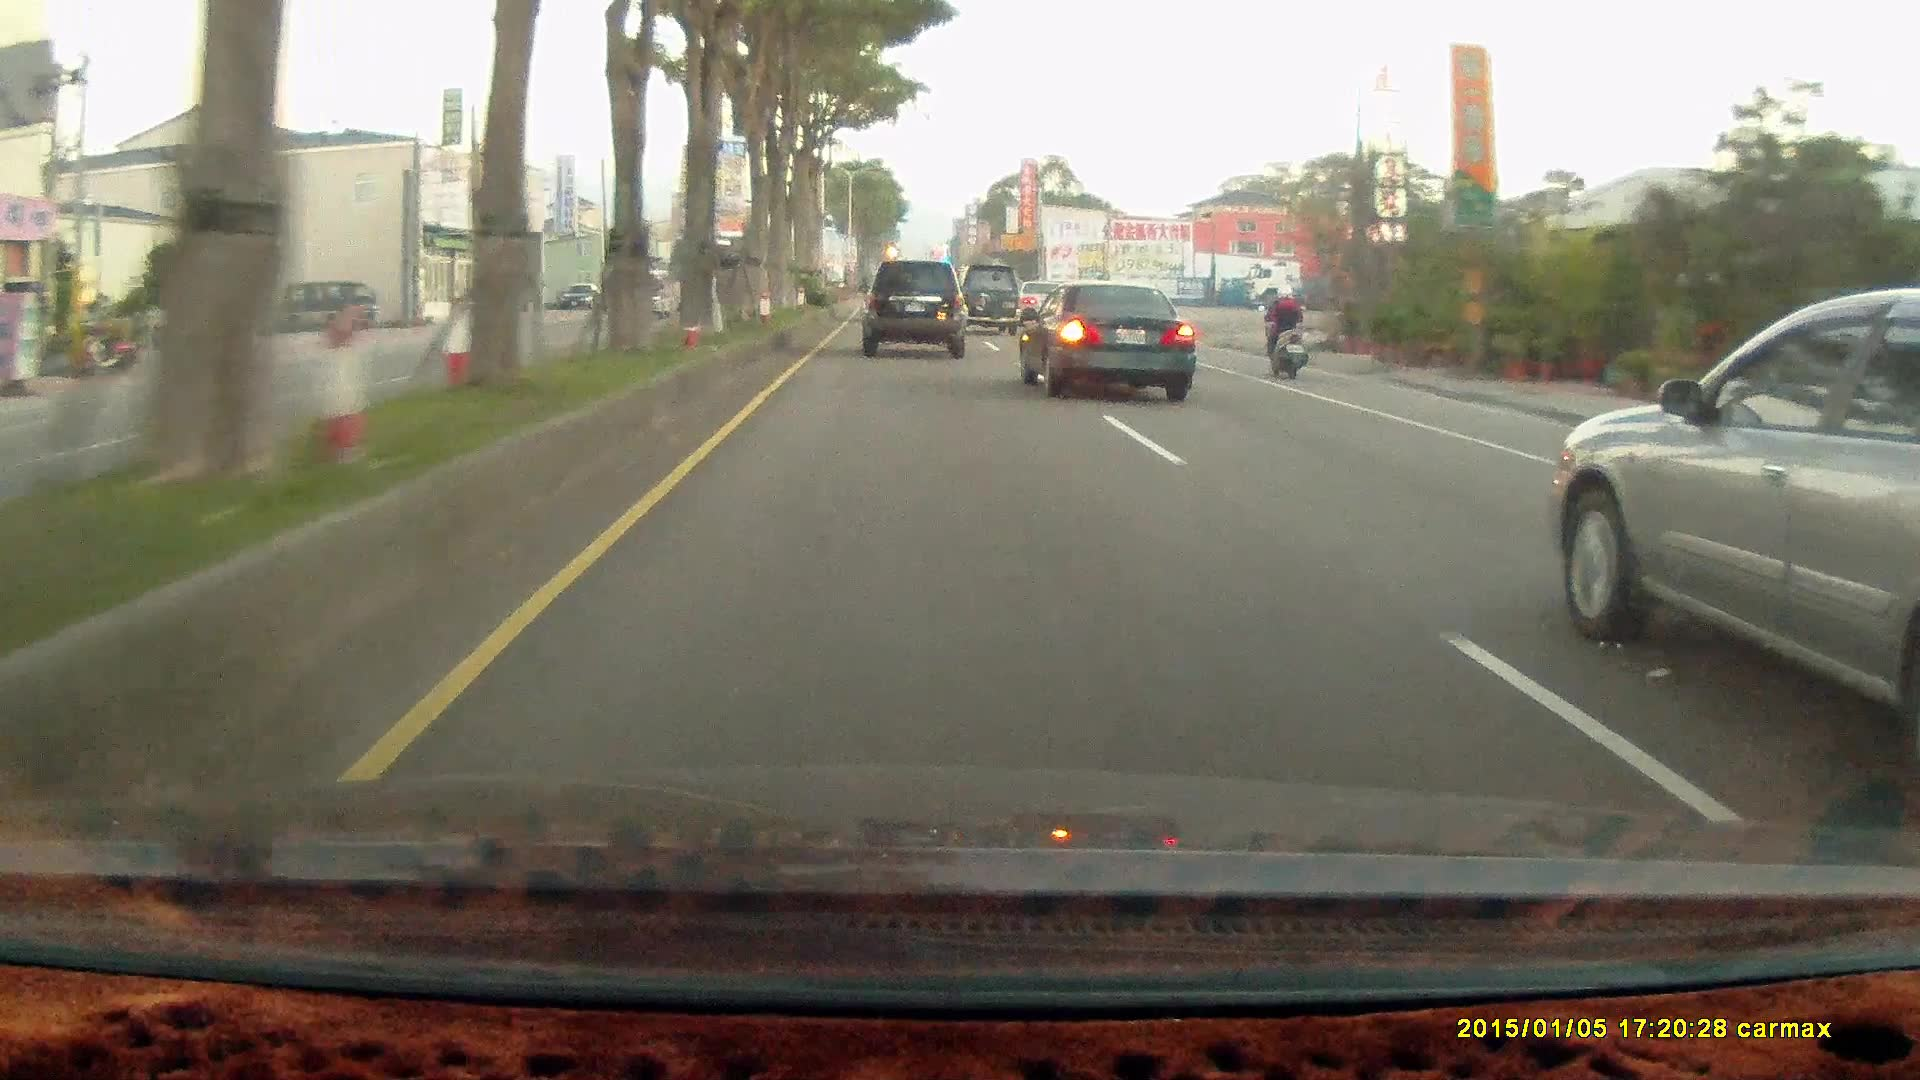rider: (1252, 274, 1320, 388), (1257, 284, 1309, 382)
vehicle: (1543, 296, 1919, 804), (1016, 281, 1197, 404), (1017, 280, 1195, 404), (1252, 258, 1478, 313), (859, 261, 969, 362), (861, 258, 965, 356), (949, 266, 1024, 341), (282, 280, 376, 337), (950, 265, 1025, 336), (281, 280, 374, 333), (559, 283, 599, 308)
